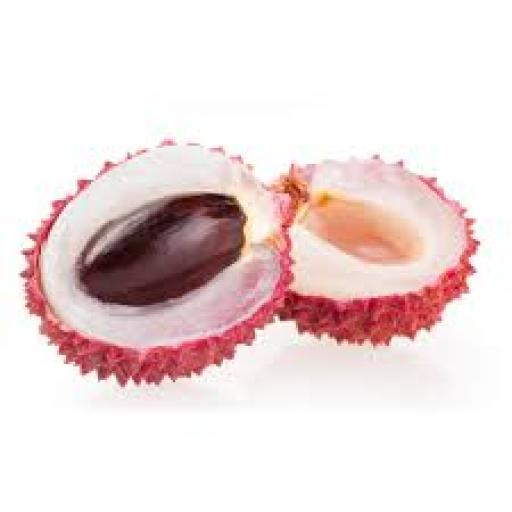lychee: (20, 139, 289, 389), (266, 160, 480, 350)
